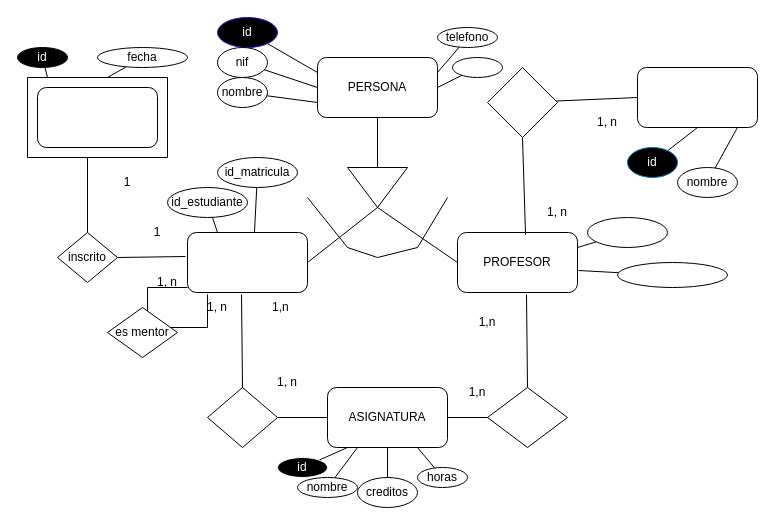
Image size: 775x525. Some labels were removed from this diagram. Here are the shapes that lost their labels. From the top down, the box of each, then its label:
(452, 56, 502, 78): sexo
(36, 86, 158, 148): MATRICULA
(486, 66, 558, 138): pertenece
(636, 66, 758, 128): DEPARTAMENTO
(346, 166, 408, 208): es
(586, 216, 668, 248): id_profesor
(186, 232, 308, 292): ESTUDIANTE
(616, 262, 728, 288): id_departamento
(206, 386, 278, 448): tiene
(486, 386, 568, 448): imparte
